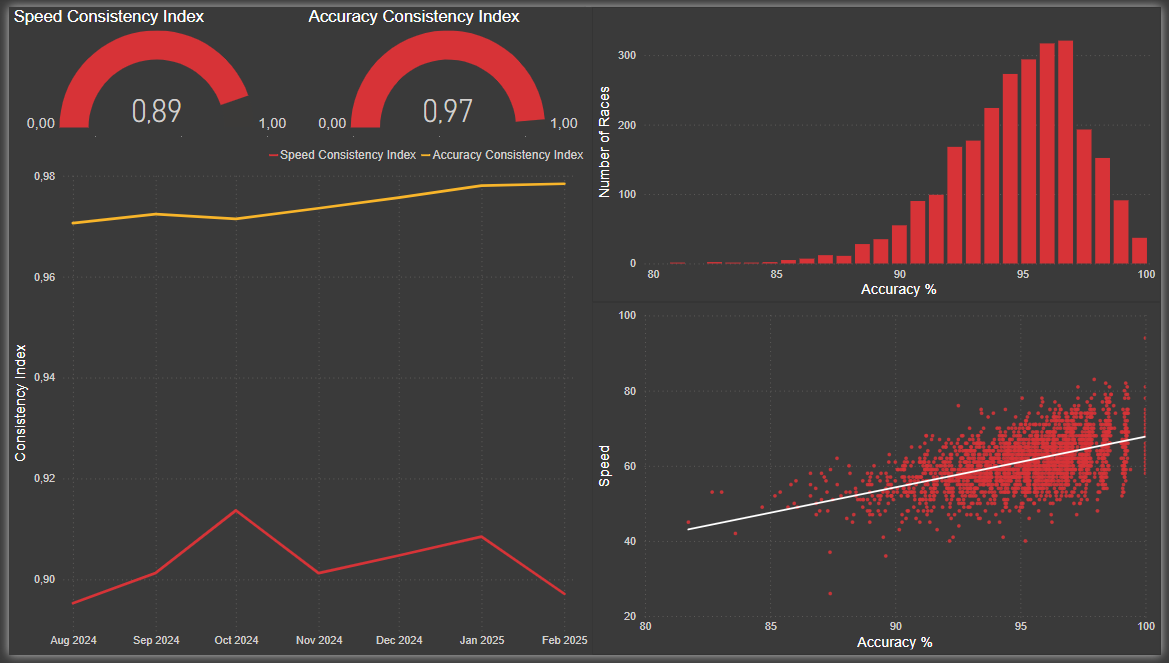

The dashboard page shown, as its layout file describes it:
{"tool":"powerbi","page":{"name":"Page 2","canvas":[1280,720],"ordinal":1},"visuals":[{"type":"scatterChart","fields":{"X":["RaceLogs.Acc"],"Y":["RaceLogs.Speed"]},"box":[648,328,632,392],"z":0},{"type":"gauge","title":"Speed Consistency Index","fields":{"Y":["RaceLogs.ConsistencyIndex_Speed"]},"box":[0,0,328,144],"z":1000},{"type":"gauge","title":"Accuracy Consistency Index","fields":{"Y":["RaceLogs.Accuracy_consistencyIndex"]},"box":[328,0,320,144],"z":2000},{"type":"lineChart","title":"Speed Consistency Index","fields":{"Y":["RaceLogs.Speed_consistencyIndex","RaceLogs.Accuracy Consistency Index"],"Category":["RaceLogs.Date.Variation.Date Hierarchy.Year","RaceLogs.Date.Variation.Date Hierarchy.Month"]},"box":[0,144,648,576],"z":3000},{"type":"clusteredColumnChart","fields":{"Y":["CountNonNull(RaceLogs.Index)"],"Category":["RaceLogs.Acc (bins)"]},"box":[648,0,632,328],"z":4000}]}

Visuals, with their boxes in screenshot pixels (x1, y1, x2, y2), scaled from the page's 1280x720 canvas onto the 1169x663 screenshot:
scatterChart - RaceLogs.Acc x RaceLogs.Speed: 592 302 1168 662
"Speed Consistency Index" gauge: 0 0 300 133
"Accuracy Consistency Index" gauge: 300 0 592 133
"Speed Consistency Index" lineChart: 0 133 592 662
clusteredColumnChart - CountNonNull(RaceLogs.Index) x RaceLogs.Acc (bins): 592 0 1168 302
